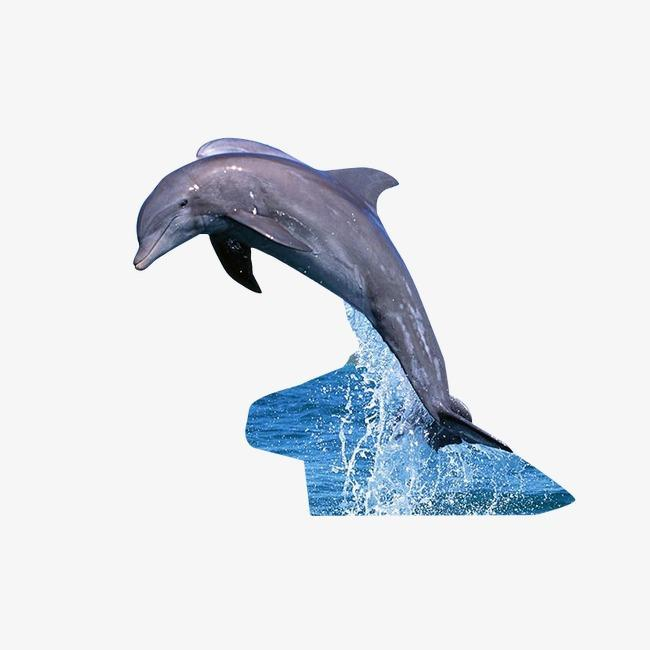fish: (128, 133, 534, 456)
